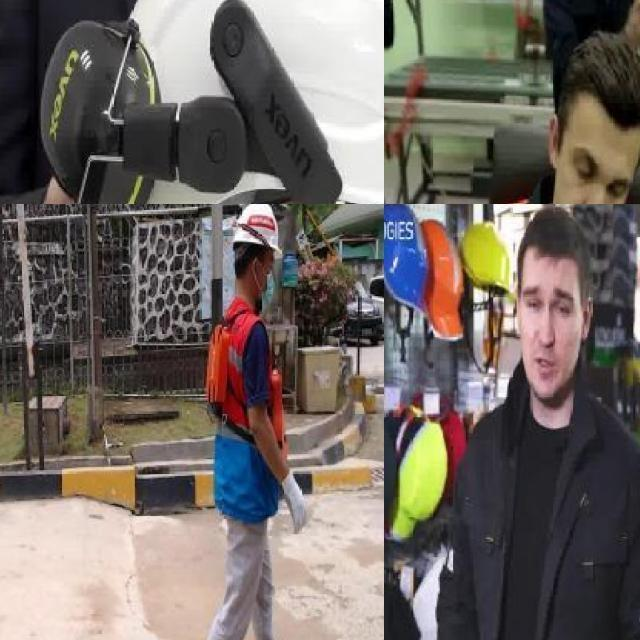apron: (280, 462, 313, 538)
